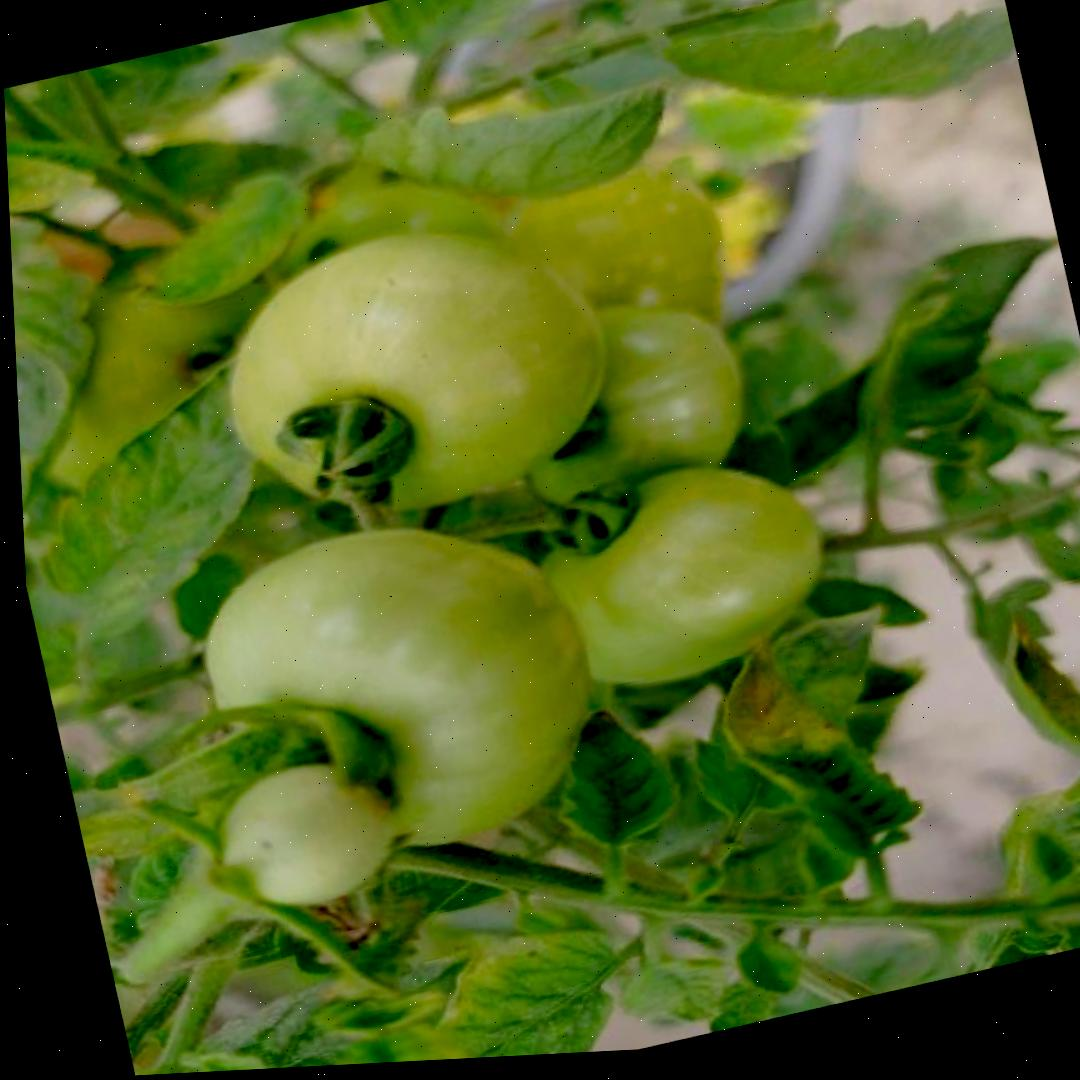mentah: (186, 485, 623, 888), (196, 190, 639, 547), (517, 437, 851, 708), (199, 745, 407, 926)
